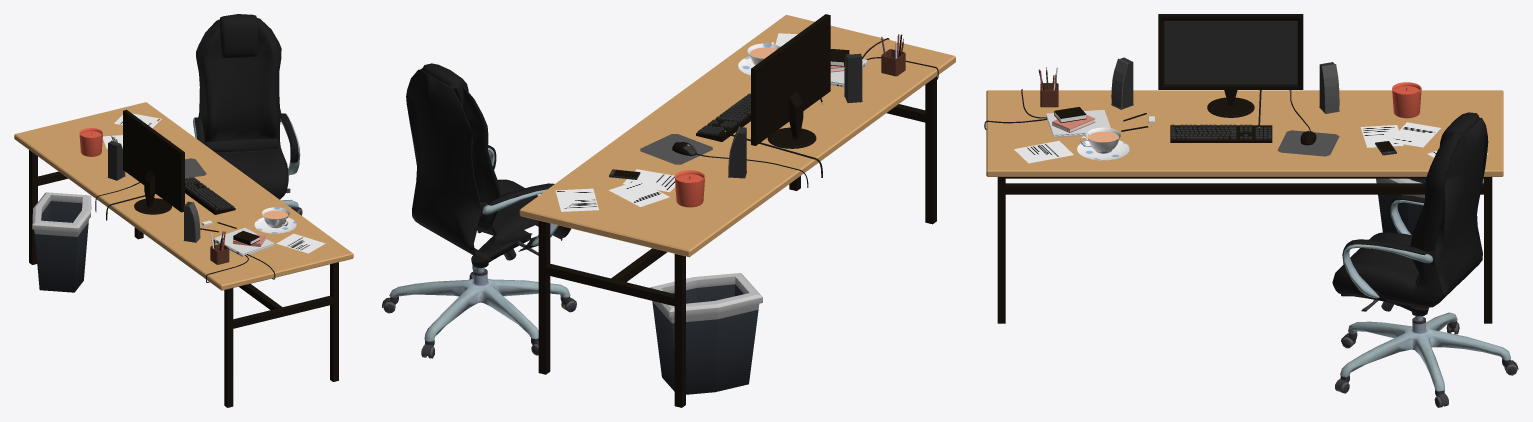
Rendered from desk.glb.
The picture shows the model from 3 angles, left to right: view 1: azimuth 30°, elevation 25°; view 2: azimuth 150°, elevation 25°; view 3: azimuth 270°, elevation 25°; orthographic projection. The views are drawn at different scales.
Visible parts, largest first — view 1: Desk_Desk_0.001, officeChair, Cube.001_2, Desk, PC_Monitor, PC_Speaker, Paper, PC_Keyboard, Notebook_Notebook_0, Object_2.004, pCylinder1, Books_Books_0 (+2 smaller); view 2: Desk_Desk_0.001, officeChair, Cube.001_2, Desk, PC_Monitor, Paper, PC_Speaker, PC_Keyboard, Mousepad, Object_2.004, Boxes; view 3: Desk_Desk_0.001, officeChair, PC_Monitor, Desk, Paper, PC_Speaker, PC_Keyboard, Cube.001_2, Mousepad, Object_2.004, Books_Books_0, Notebook_Notebook_0 (+1 smaller).
Part boxes in pixels (left/top/right/bottom): Desk_Desk_0.001: left=14, top=102, right=353, bottom=290; officeChair: left=193, top=14, right=302, bottom=215; Cube.001_2: left=32, top=192, right=91, bottom=292; Desk: left=29, top=150, right=338, bottom=407; PC_Monitor: left=123, top=109, right=184, bottom=214; PC_Speaker: left=107, top=140, right=200, bottom=242; Paper: left=102, top=113, right=325, bottom=253; PC_Keyboard: left=185, top=177, right=235, bottom=214; Notebook_Notebook_0: left=213, top=228, right=274, bottom=256; Object_2.004: left=79, top=128, right=102, bottom=156; pCylinder1: left=254, top=217, right=296, bottom=233; Books_Books_0: left=233, top=230, right=265, bottom=246; Desk_Desk_0.001: left=519, top=14, right=955, bottom=257; officeChair: left=382, top=63, right=576, bottom=358; Cube.001_2: left=649, top=273, right=762, bottom=394; Desk: left=538, top=76, right=936, bottom=407; PC_Monitor: left=751, top=14, right=830, bottom=148; Paper: left=555, top=33, right=797, bottom=211; PC_Speaker: left=728, top=53, right=862, bottom=178; PC_Keyboard: left=696, top=93, right=750, bottom=141; Mousepad: left=640, top=134, right=712, bottom=164; Object_2.004: left=674, top=170, right=705, bottom=207; Boxes: left=881, top=49, right=905, bottom=76; Desk_Desk_0.001: left=986, top=90, right=1503, bottom=176; officeChair: left=1332, top=112, right=1518, bottom=407; PC_Monitor: left=1158, top=14, right=1303, bottom=117; Desk: left=997, top=177, right=1492, bottom=323; Paper: left=1014, top=122, right=1488, bottom=163; PC_Speaker: left=1111, top=57, right=1339, bottom=113; PC_Keyboard: left=1170, top=124, right=1272, bottom=142; Cube.001_2: left=1376, top=178, right=1483, bottom=235; Mousepad: left=1277, top=130, right=1339, bottom=156; Object_2.004: left=1392, top=82, right=1421, bottom=118; Books_Books_0: left=1052, top=107, right=1095, bottom=132; Notebook_Notebook_0: left=1046, top=110, right=1110, bottom=137.
Size of the model in its own units: 21.47 by 15.13 by 28.18.
Materials: 23 (18 with a texture image).
